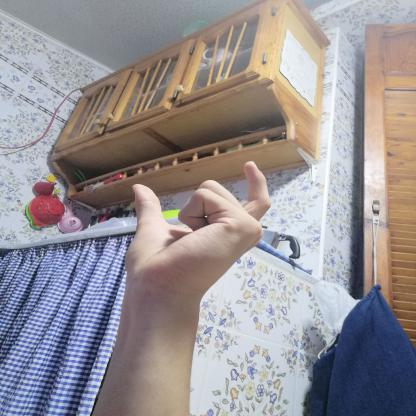NOON: (112, 147, 290, 314)
